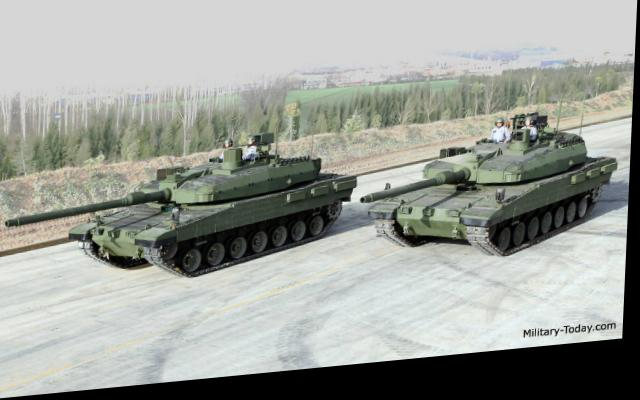tank: (95, 136, 357, 290), (397, 120, 623, 270)
